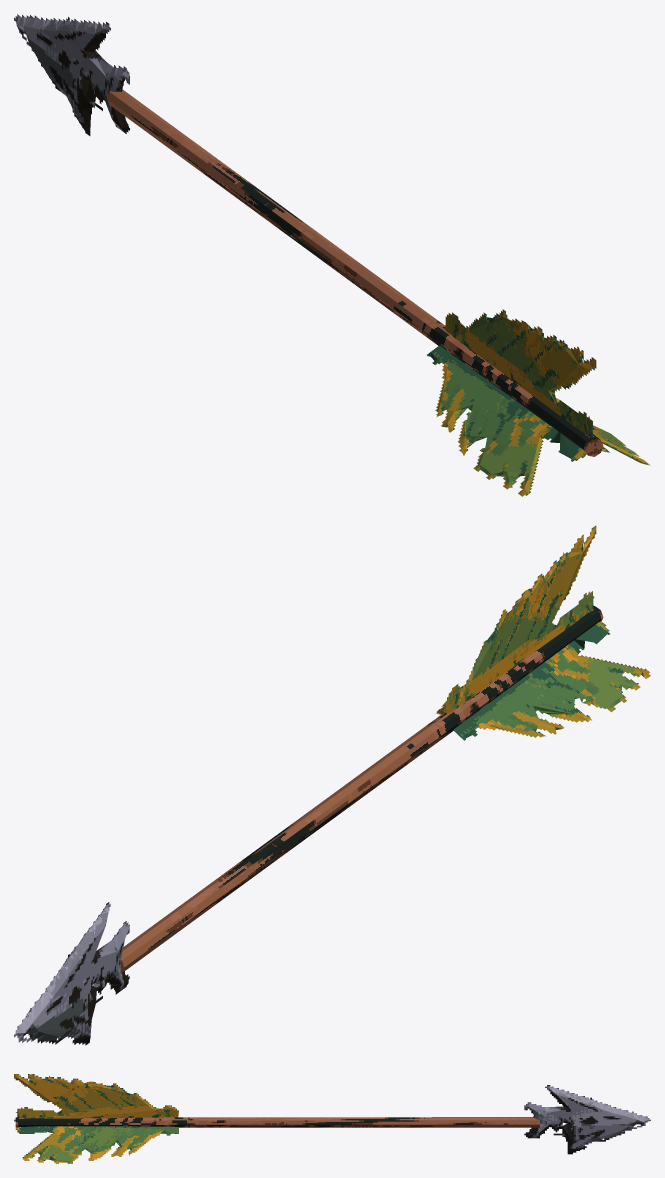
Rendered from arrow.glb.
3 views of the same model, one above another, from view 1: azimuth 30°, elevation 25°; view 2: azimuth 150°, elevation 25°; view 3: azimuth 270°, elevation 25° (orthographic). The views are drawn at different scales.
Visible parts, largest first — view 1: fletching, shaft, head; view 2: fletching, shaft, head; view 3: fletching, shaft, head.
Boxes of the visible parts, <box> form: fletching: <box>427,309,650,496</box>; shaft: <box>107,89,603,456</box>; head: <box>14,14,129,135</box>; fletching: <box>436,525,650,740</box>; shaft: <box>120,606,603,973</box>; head: <box>14,902,129,1045</box>; fletching: <box>14,1074,178,1163</box>; shaft: <box>15,1117,539,1127</box>; head: <box>524,1085,650,1154</box>.
Size of the model in its own units: 0.1021 by 0.1037 by 0.7459.
Materials: 2 (2 with a texture image).
